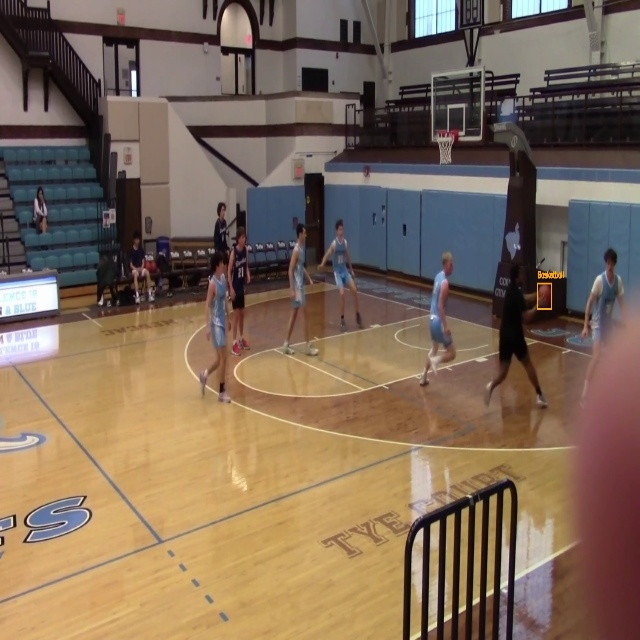Basketball: (538, 283, 552, 309)
